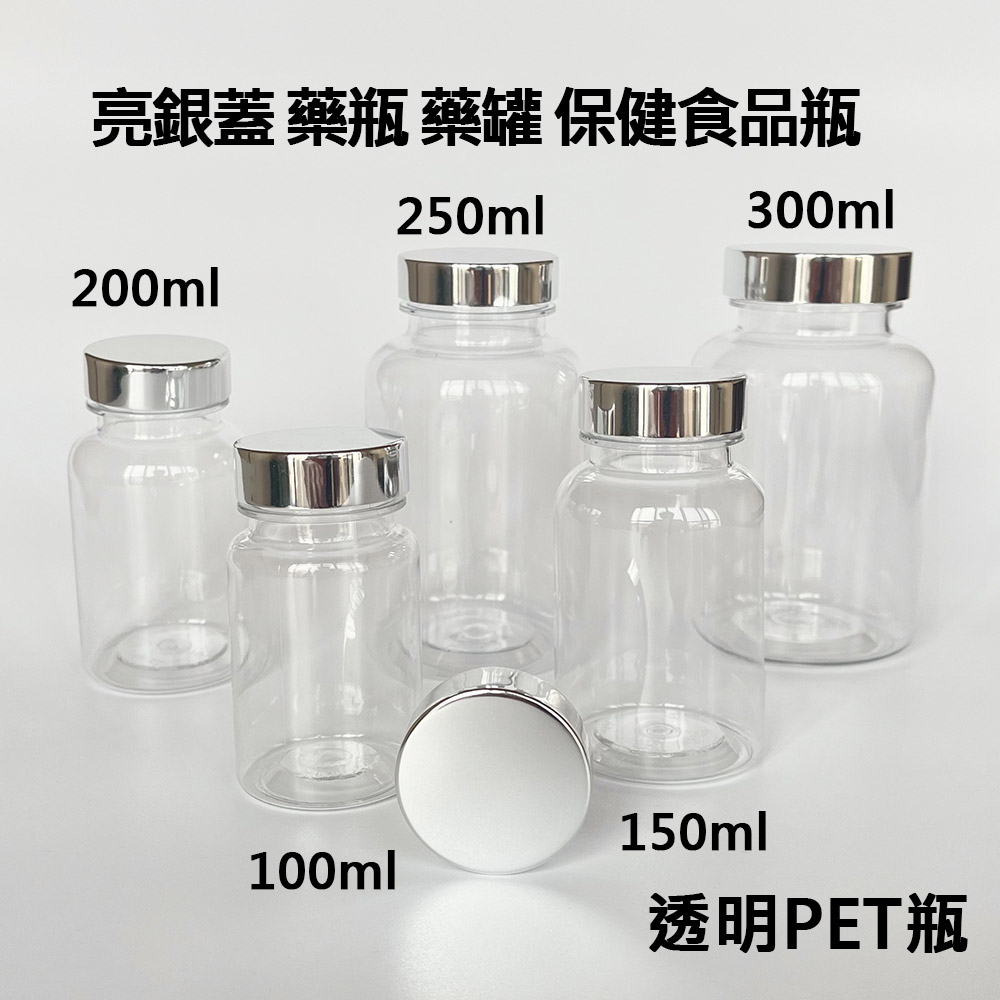medicinejar: (701, 242, 944, 683), (362, 248, 587, 683), (571, 372, 769, 788), (237, 417, 421, 828), (62, 318, 251, 708)
